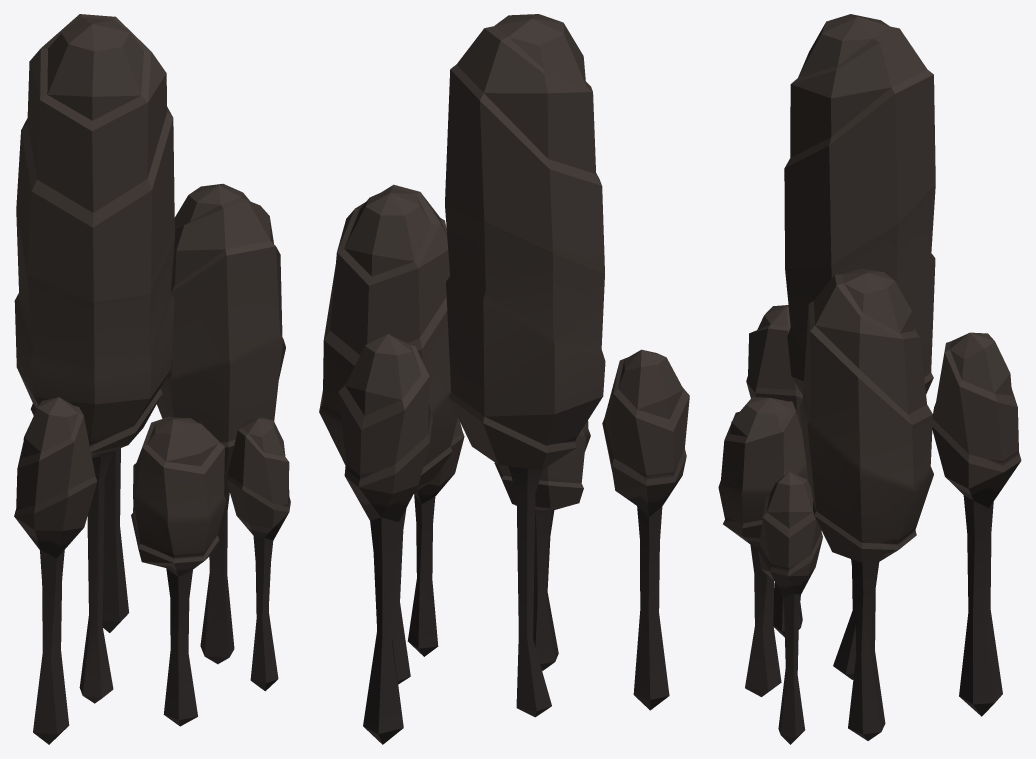
File: worlds_SM_Env_Plant_Large_Spiral_Preset_01.gltf
3 renders of one model, left to right at view 1: azimuth 30°, elevation 25°; view 2: azimuth 150°, elevation 25°; view 3: azimuth 270°, elevation 25°, orthographic. The views are drawn at different scales.
Visible parts, largest first — view 1: SM_Env_Plant_Large_Spiral_Preset_01; view 2: SM_Env_Plant_Large_Spiral_Preset_01; view 3: SM_Env_Plant_Large_Spiral_Preset_01.
Boxes of the visible parts, x1,y1,x2,y2 form: SM_Env_Plant_Large_Spiral_Preset_01: [14, 14, 290, 744]; SM_Env_Plant_Large_Spiral_Preset_01: [319, 14, 689, 744]; SM_Env_Plant_Large_Spiral_Preset_01: [718, 14, 1021, 744].
Size of the model in its own units: 14.54 by 31.02 by 12.84.
Materials: 1 (1 with a texture image).
